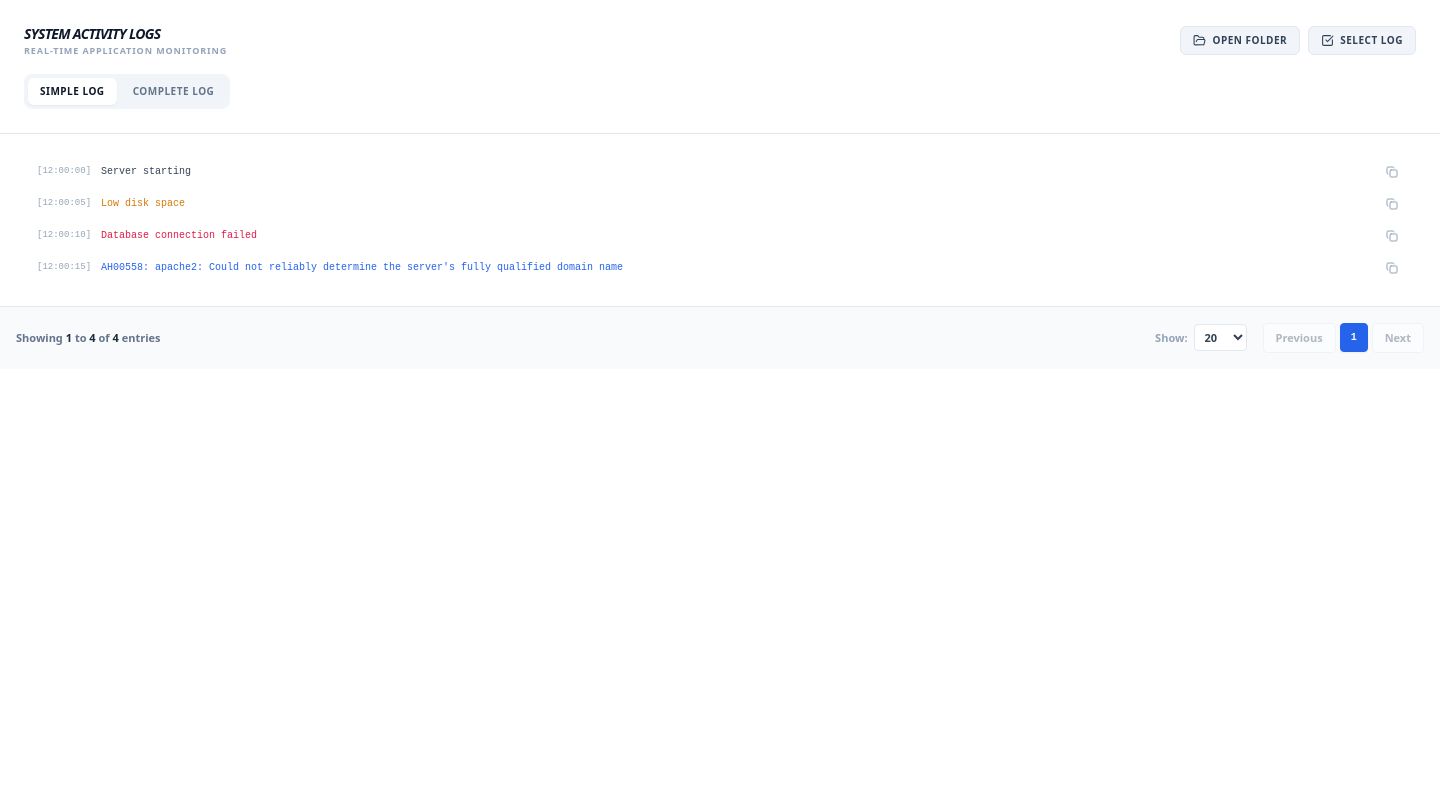
LogViewer Component › displays expandable stack trace inside complete log cards
Switch to complete log mode
Click the button "Complete Log" at (173, 91), box [121,78,226,104]
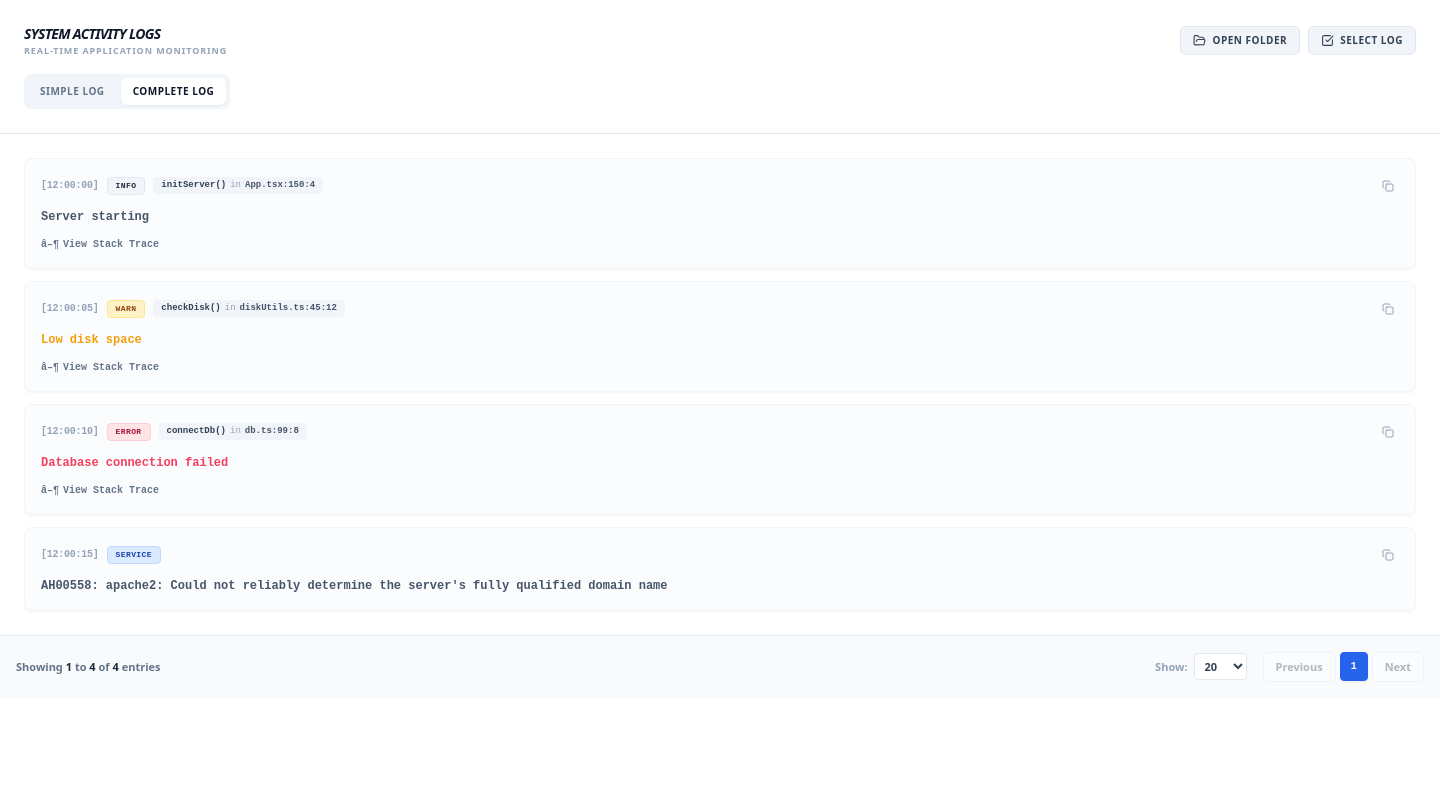
Expected: the number of headings "â–¶ View Stack Trace" is 3, [41,238,159,250]; [41,362,159,372]; [41,484,159,496]
